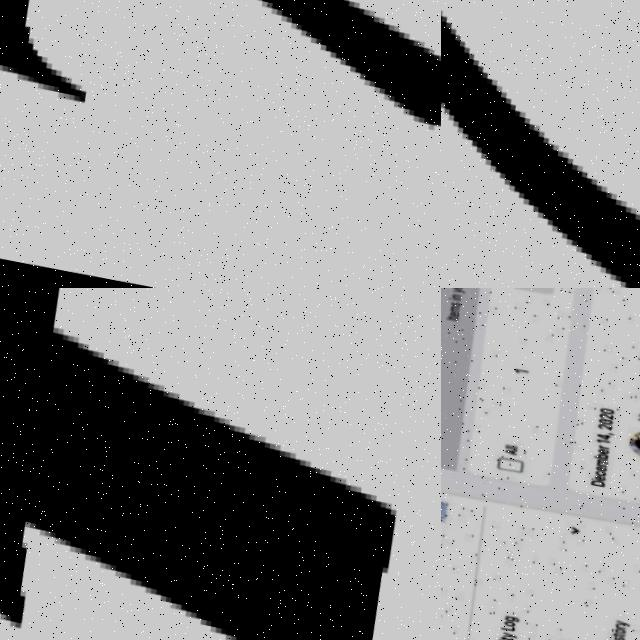0: (591, 407, 608, 417), (591, 418, 607, 428)
1: (587, 439, 603, 446), (509, 370, 523, 376)
2: (590, 423, 606, 433), (590, 413, 607, 422)
4: (588, 433, 605, 443)
7: (0, 0, 441, 193), (441, 0, 640, 288)
T: (0, 288, 441, 640)
